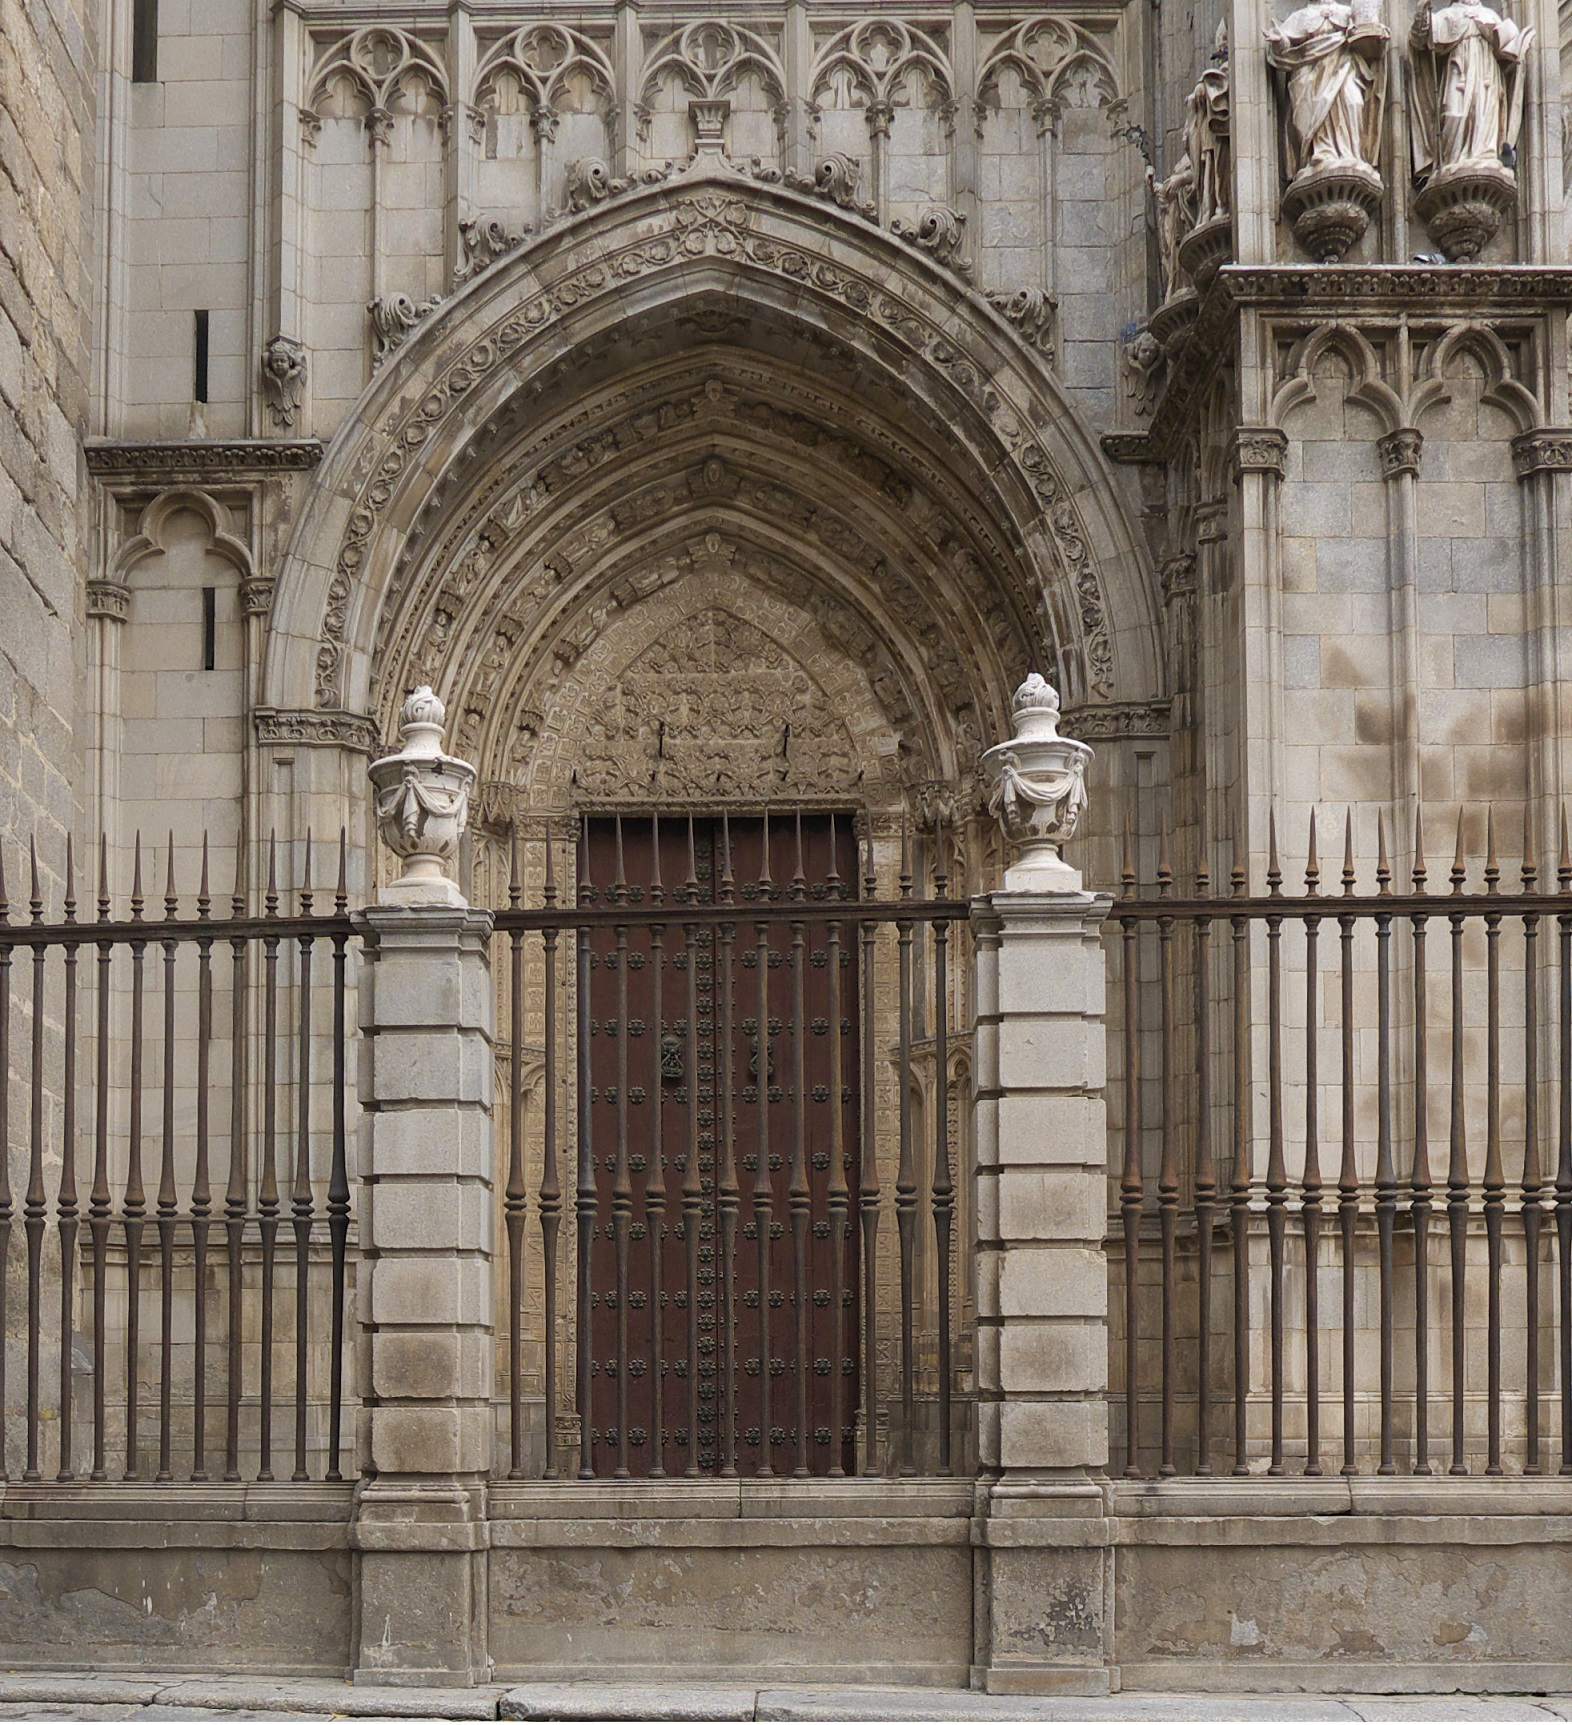arco-apuntado: (260, 155, 1138, 793)
